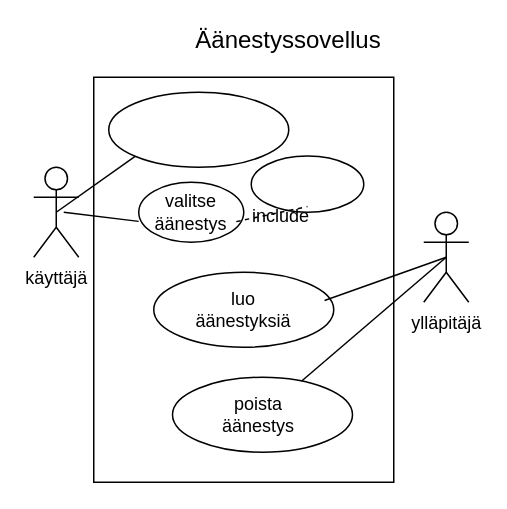
This 507x509 diagram has some shape labels left out. The centre of each missing label's shape, as x and y in pixels:
selaa äänestystuloksia: pixel 198 129
äänestä: pixel 307 183
